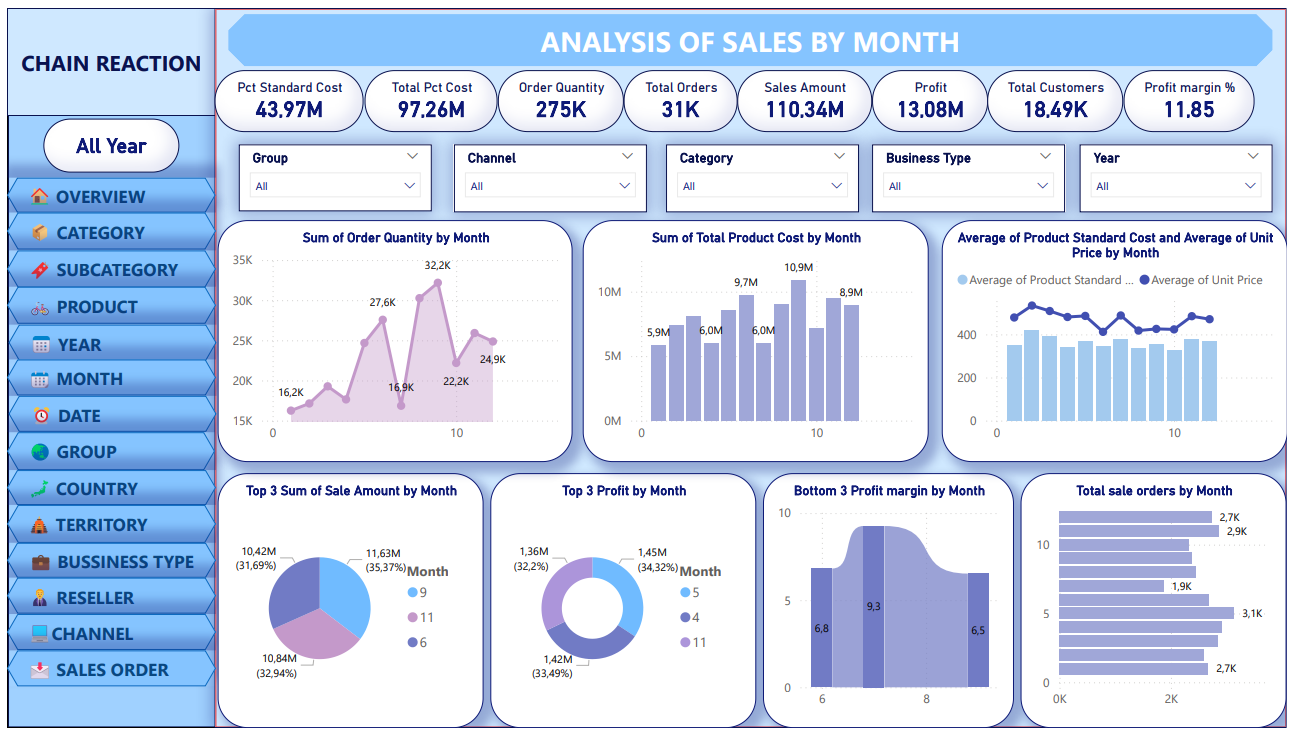

Layout of this report page (visuals, bound fields, positions):
{"tool":"powerbi","page":{"name":"Month","canvas":[1280,720],"ordinal":8},"visuals":[{"type":"shape","box":[0,0,209.9,720.4],"z":0},{"type":"shape","title":"dbdbdjb","box":[235.7,0,1044.3,52.1],"z":1000},{"type":"shape","box":[0,0,209.1,107.6],"z":2000},{"type":"shape","box":[207.6,0,1072.4,720.2],"z":3000},{"type":"shape","box":[0,170.1,208.6,35],"z":4000},{"type":"shape","box":[0,205,209,37],"z":5000},{"type":"shape","box":[0,242,209,37],"z":6000},{"type":"shape","box":[0,279,209,37],"z":7000},{"type":"shape","box":[1,316,208,36],"z":8000},{"type":"shape","box":[0,352,209,36],"z":9000},{"type":"shape","box":[1,388,208,36],"z":10000},{"type":"shape","box":[0,424,208,38],"z":11000},{"type":"shape","box":[0,462,209,35],"z":12000},{"type":"shape","box":[0,497,209,38],"z":13000},{"type":"shape","box":[0,535,209,35],"z":14000},{"type":"shape","box":[0,570,209,36],"z":15000},{"type":"shape","box":[0,606,209,36],"z":16000},{"type":"shape","box":[0,642,209,36],"z":17000},{"type":"card","title":"Order Quantity","fields":{"Values":["Sum(Sales.Order Quantity)"]},"box":[490.4,62.4,126,62.4],"z":18000},{"type":"card","title":"Pct Standard Cost","fields":{"Values":["Sum(Sales.Product Standard Cost)"]},"box":[207.9,62.4,149.2,62.4],"z":19000},{"type":"card","title":"Sales Amount","fields":{"Values":["Sum(Sales.Sale Amount)"]},"box":[730,62.4,134.5,62.4],"z":20000},{"type":"card","title":"Profit","fields":{"Values":["Sales.Profit"]},"box":[864.5,62.4,116.2,62.4],"z":21000},{"type":"card","title":"Total Pct Cost","fields":{"Values":["Sum(Sales.Total Product Cost)"]},"box":[357.1,62.4,133.3,62.4],"z":22000},{"type":"card","title":"Total Orders","fields":{"Values":["Sales.Total sale orders"]},"box":[616.3,62.4,113.7,62.4],"z":23000},{"type":"card","title":"Total Customers","fields":{"Values":["Count(Customer.Customer ID)"]},"box":[980.7,62.4,135.7,62.4],"z":24000},{"type":"card","title":"Profit margin %","fields":{"Values":["Sales.Profit margin"]},"box":[1116.4,62.4,130.8,62.4],"z":25000},{"type":"shape","title":"dbdbdjb","box":[221.1,5.6,1044.4,52.2],"z":26000},{"type":"slicer","title":"Group","fields":{"Values":["Group.Group"]},"box":[231.1,137,193.2,67.3],"z":27000},{"type":"slicer","title":"Channel","fields":{"Values":["Channel.Channel"]},"box":[446.3,137,193.2,68.5],"z":28000},{"type":"slicer","title":"Category","fields":{"Values":["Category.Category"]},"box":[659.1,137,193.2,68.5],"z":29000},{"type":"slicer","title":"Category","fields":{"Values":["Business Type.Business Type"]},"box":[864.5,137,193.2,68.5],"z":30000},{"type":"slicer","title":"Date","fields":{"Values":["Date.Year"]},"box":[1072.4,137,193.2,68.5],"z":31000},{"type":"pieChart","title":"Top 3 Sum of Sale Amount by Month","fields":{"Category":["Date.Month"],"Y":["Sum(Sales.Sale Amount)"]},"box":[209.9,464.8,266.2,255.2],"z":32000},{"type":"donutChart","title":"Top 3 Profit by Month","fields":{"Category":["Date.Month"],"Y":["Sales.Profit"]},"box":[483,464.8,266.2,255.2],"z":33000},{"type":"ribbonChart","title":"Bottom 3 Profit margin by Month","fields":{"Category":["Date.Month"],"Y":["Sales.Profit margin"]},"box":[756.1,464.8,251.1,255.2],"z":34000},{"type":"areaChart","fields":{"Category":["Date.Month"],"Y":["Sum(Sales.Order Quantity)"]},"box":[209.9,212.7,355.4,241.5],"z":35000},{"type":"columnChart","fields":{"Category":["Date.Month"],"Y":["Sum(Sales.Total Product Cost)"]},"box":[576.3,212.7,345.8,241.5],"z":36000},{"type":"lineStackedColumnComboChart","fields":{"Category":["Date.Month"],"Y":["Avg(Sales.Product Standard Cost)"],"Y2":["Avg(Sales.Unit Price)"]},"box":[934.2,212.7,345.8,241.5],"z":37000},{"type":"clusteredBarChart","fields":{"Category":["Date.Month"],"Y":["Sales.Total sale orders"]},"box":[1013.8,464.8,266.2,255.2],"z":38000},{"type":"card","fields":{"Values":["Date.SYear"]},"box":[36.7,110.1,135.7,53.8],"z":39000}]}

Visuals, with their boxes in screenshot pixels (x1, y1, x2, y2), scaled from the page's 1280x720 canvas onto the 1295x735 screenshot:
shape: (x1=0, y1=0, x2=212, y2=734)
"dbdbdjb" shape: (x1=238, y1=0, x2=1294, y2=53)
shape: (x1=0, y1=0, x2=212, y2=110)
shape: (x1=210, y1=0, x2=1294, y2=734)
shape: (x1=0, y1=174, x2=211, y2=209)
shape: (x1=0, y1=209, x2=211, y2=247)
shape: (x1=0, y1=247, x2=211, y2=285)
shape: (x1=0, y1=285, x2=211, y2=323)
shape: (x1=1, y1=323, x2=211, y2=359)
shape: (x1=0, y1=359, x2=211, y2=396)
shape: (x1=1, y1=396, x2=211, y2=433)
shape: (x1=0, y1=433, x2=210, y2=472)
shape: (x1=0, y1=472, x2=211, y2=507)
shape: (x1=0, y1=507, x2=211, y2=546)
shape: (x1=0, y1=546, x2=211, y2=582)
shape: (x1=0, y1=582, x2=211, y2=619)
shape: (x1=0, y1=619, x2=211, y2=655)
shape: (x1=0, y1=655, x2=211, y2=692)
"Order Quantity" card: (x1=496, y1=64, x2=624, y2=127)
"Pct Standard Cost" card: (x1=210, y1=64, x2=361, y2=127)
"Sales Amount" card: (x1=739, y1=64, x2=875, y2=127)
"Profit" card: (x1=875, y1=64, x2=992, y2=127)
"Total Pct Cost" card: (x1=361, y1=64, x2=496, y2=127)
"Total Orders" card: (x1=624, y1=64, x2=739, y2=127)
"Total Customers" card: (x1=992, y1=64, x2=1129, y2=127)
"Profit margin %" card: (x1=1129, y1=64, x2=1262, y2=127)
"dbdbdjb" shape: (x1=224, y1=6, x2=1280, y2=59)
"Group" slicer: (x1=234, y1=140, x2=429, y2=209)
"Channel" slicer: (x1=452, y1=140, x2=647, y2=210)
"Category" slicer: (x1=667, y1=140, x2=862, y2=210)
"Category" slicer: (x1=875, y1=140, x2=1070, y2=210)
"Date" slicer: (x1=1085, y1=140, x2=1280, y2=210)
"Top 3 Sum of Sale Amount by Month" pieChart: (x1=212, y1=474, x2=482, y2=734)
"Top 3 Profit by Month" donutChart: (x1=489, y1=474, x2=758, y2=734)
"Bottom 3 Profit margin by Month" ribbonChart: (x1=765, y1=474, x2=1019, y2=734)
areaChart - Date.Month x Sum(Sales.Order Quantity): (x1=212, y1=217, x2=572, y2=464)
columnChart - Date.Month x Sum(Sales.Total Product Cost): (x1=583, y1=217, x2=933, y2=464)
lineStackedColumnComboChart - Date.Month x Avg(Sales.Product Standard Cost): (x1=945, y1=217, x2=1294, y2=464)
clusteredBarChart - Date.Month x Sales.Total sale orders: (x1=1026, y1=474, x2=1294, y2=734)
card - Date.SYear: (x1=37, y1=112, x2=174, y2=167)
